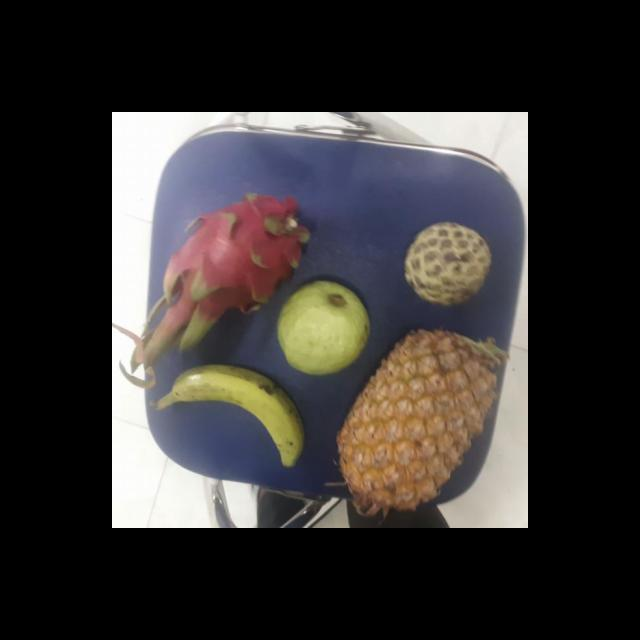Sakya fruit: (400, 222, 492, 306)
guava: (272, 278, 371, 372)
pineapple: (334, 334, 501, 510)
pitaya: (161, 188, 308, 319)
